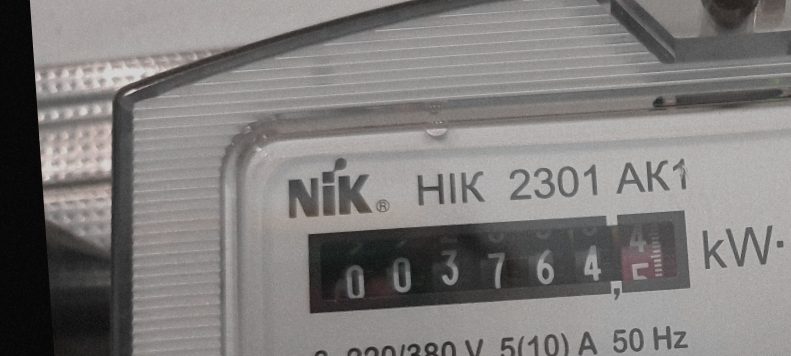0: (341, 261, 368, 300), (389, 253, 413, 294)
3: (436, 246, 462, 287)
4: (581, 242, 603, 282), (626, 221, 649, 254)
5: (628, 259, 651, 282)
6: (533, 246, 556, 286)
7: (484, 247, 510, 290)
screen: (289, 191, 706, 328)
